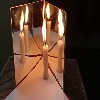fire: (42, 19, 47, 47)
